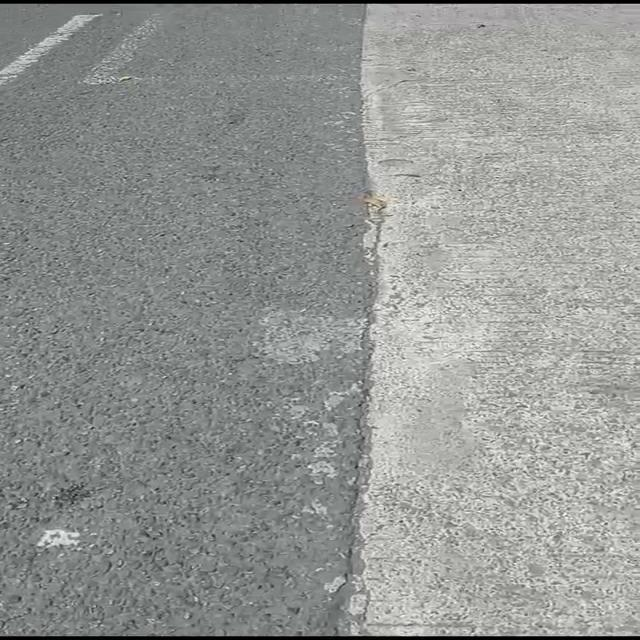Sambungan: (333, 0, 640, 640)
